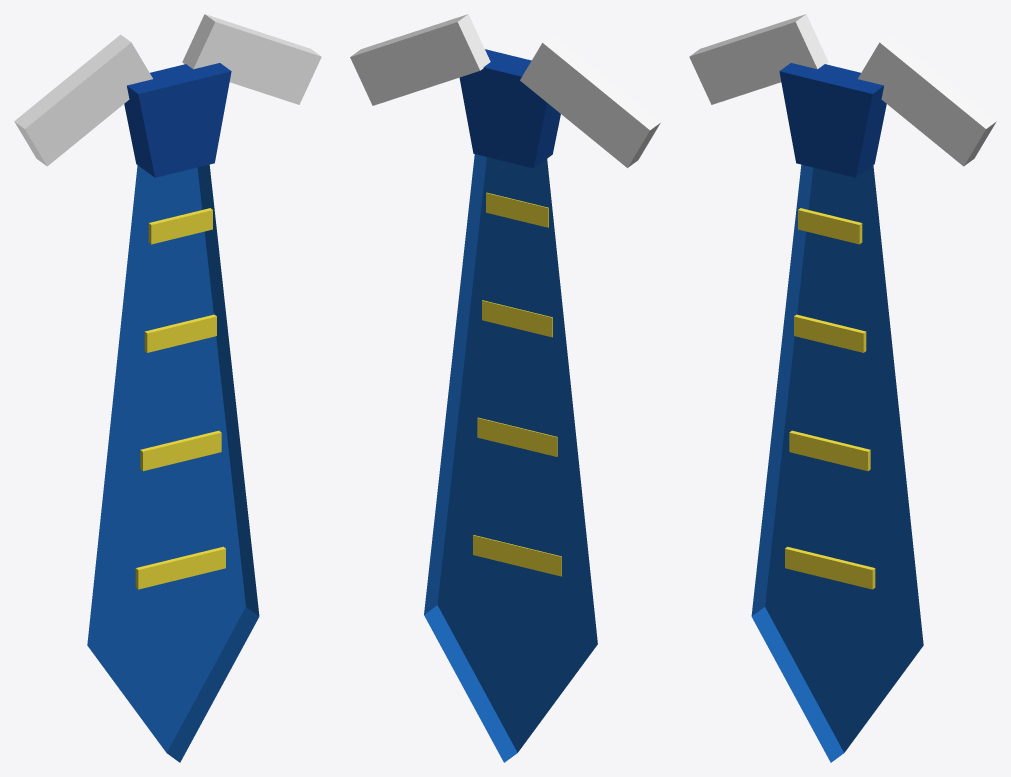
File: slips.glb
3 renders of one model, left to right at view 1: azimuth 30°, elevation 25°; view 2: azimuth 150°, elevation 25°; view 3: azimuth 330°, elevation 25°, orthographic.
Parts seen in each view (by area): view 1: slips; view 2: slips; view 3: slips.
Part boxes in pixels (x1,y1,x2,y2): slips: [14, 14, 321, 762]; slips: [350, 14, 660, 762]; slips: [689, 14, 996, 762].
Size of the model in its own units: 0.3181 by 0.7431 by 0.0415.
